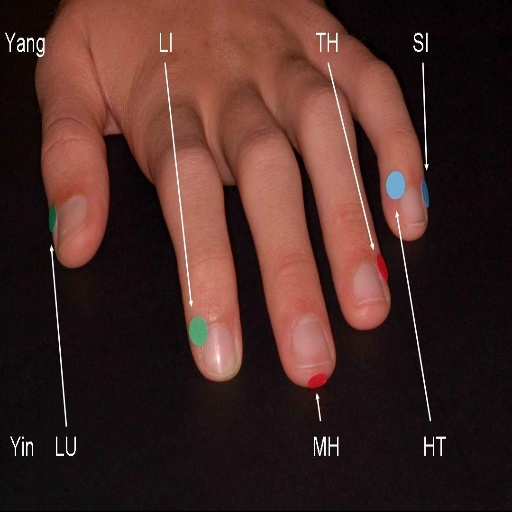hand: (38, 0, 429, 390)
